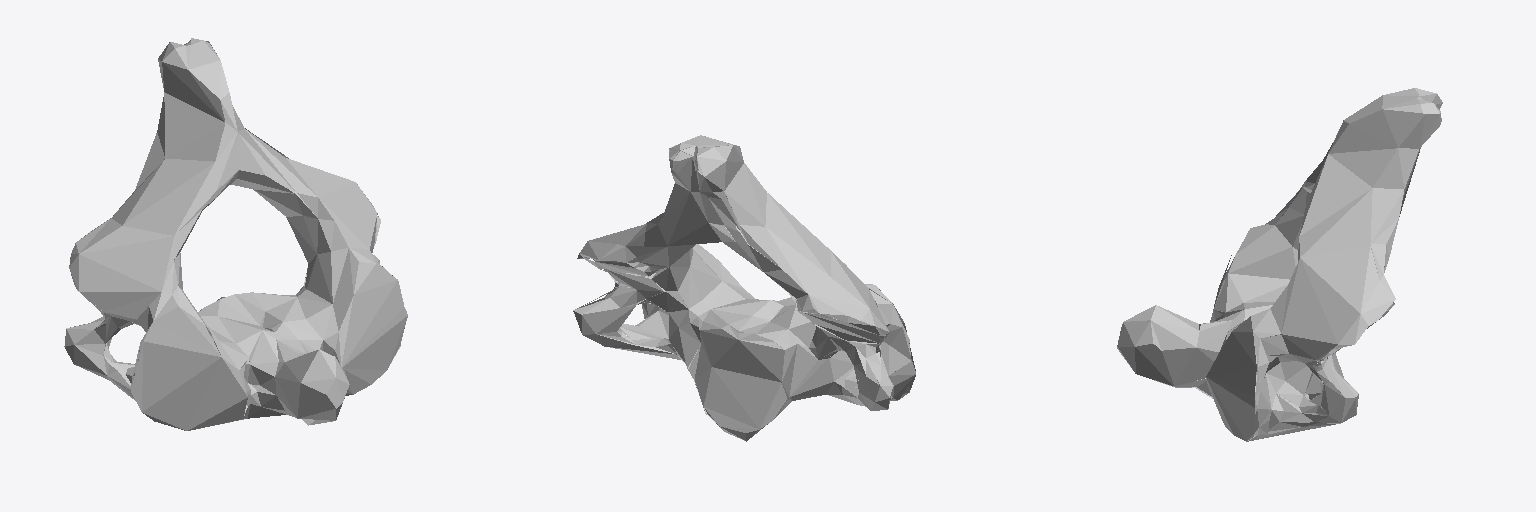
The model's file is axis.obj.
3 views of the same model, side by side, from view 1: azimuth 30°, elevation 25°; view 2: azimuth 150°, elevation 25°; view 3: azimuth 270°, elevation 25° (orthographic).
Visible parts, largest first — view 1: grp1; view 2: grp1; view 3: grp1.
Part boxes in pixels (left/top/right/bottom): grp1: left=64, top=38, right=407, bottom=430; grp1: left=573, top=135, right=915, bottom=441; grp1: left=1117, top=88, right=1442, bottom=441.
Size of the model in its own units: 50.37 by 49.63 by 45.44.